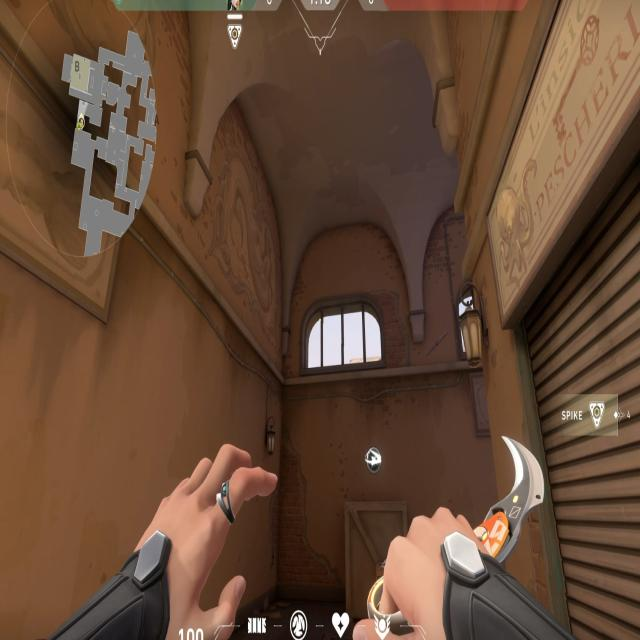B_Main_Wallbang: (304, 441, 386, 598)
Throwables: (298, 299, 391, 387)
